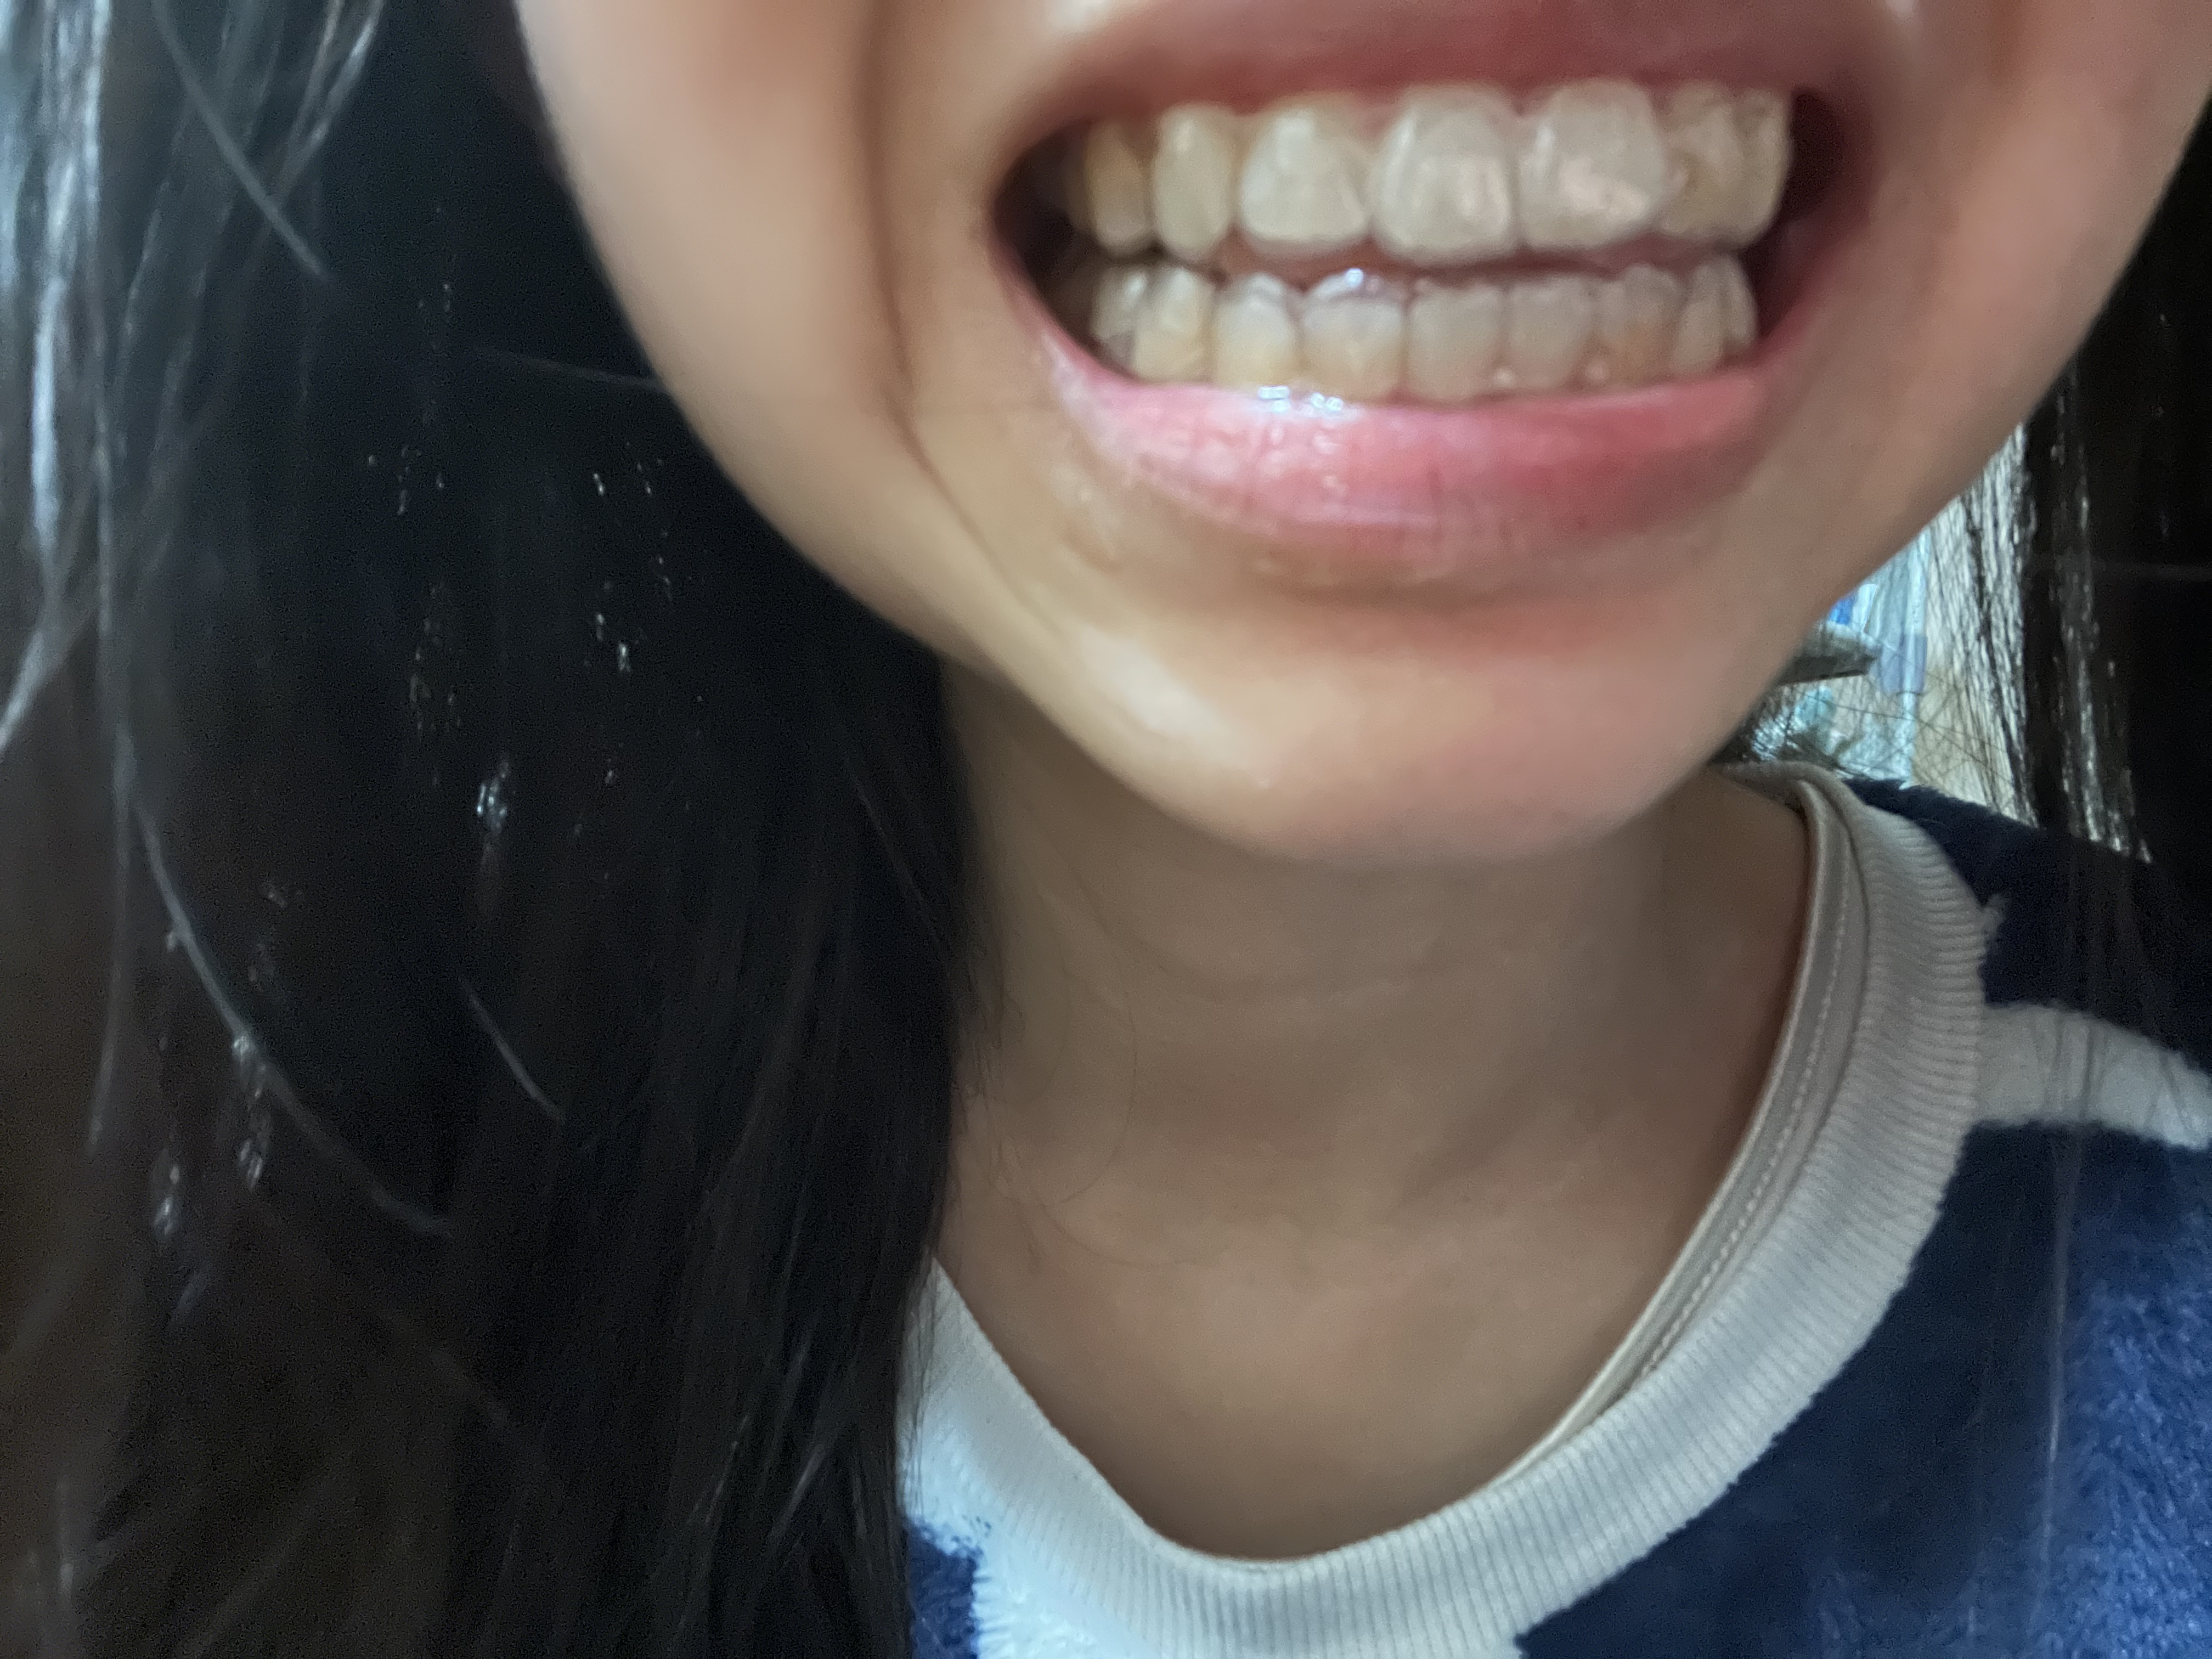teeth: (1515, 78, 1662, 254), (1379, 85, 1514, 242), (1240, 101, 1360, 242), (1146, 112, 1228, 256), (1667, 85, 1738, 235), (1601, 268, 1679, 380), (1420, 293, 1500, 387), (1129, 277, 1205, 375), (1303, 303, 1397, 380), (1217, 295, 1299, 375), (1737, 99, 1780, 247), (1515, 288, 1583, 375), (1096, 127, 1144, 240), (1674, 284, 1723, 366), (1705, 261, 1745, 342), (1099, 265, 1144, 335)
